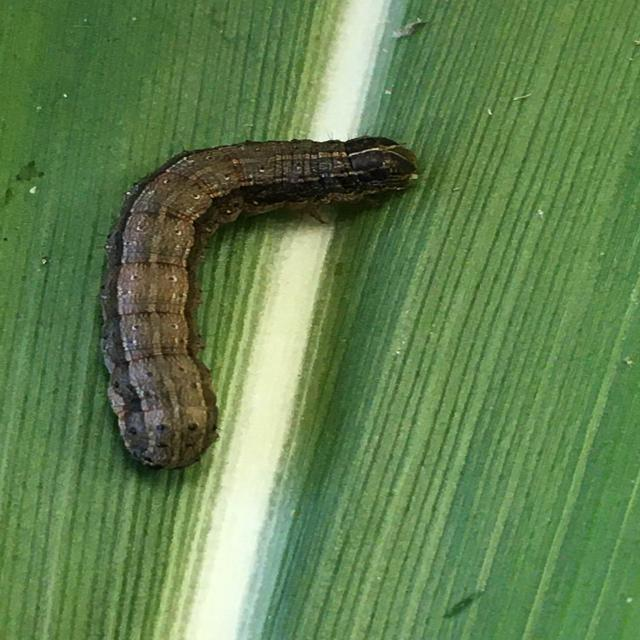yellow-stem-borer-larva: (74, 88, 442, 495)
